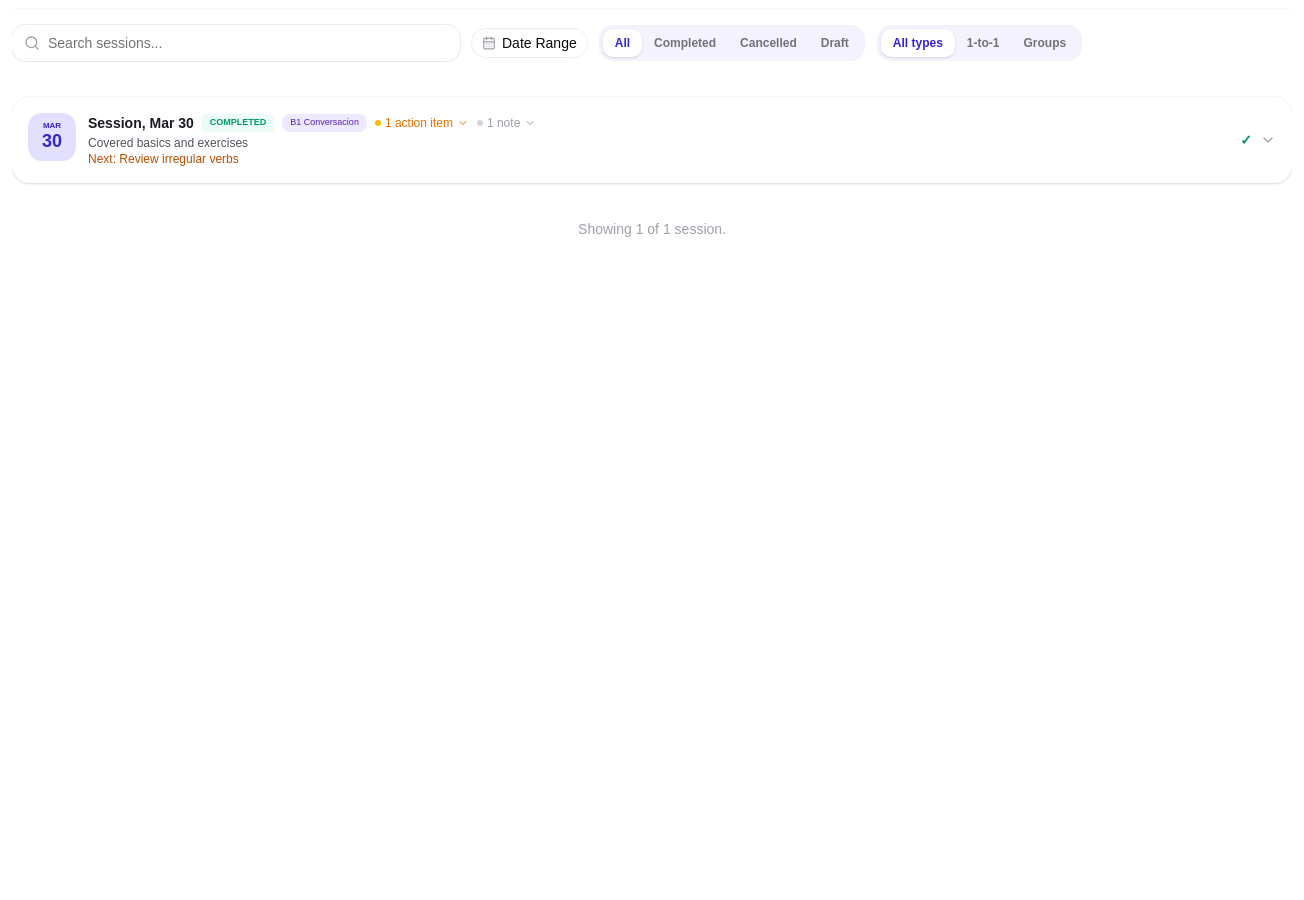
Test: SessionHistoryTab › shows "View in group" link and no delete button for group session
Click the button with test id "session-entry-toggle".
click(52, 137)  # box top-left (12, 97), bottom-right (1292, 183)
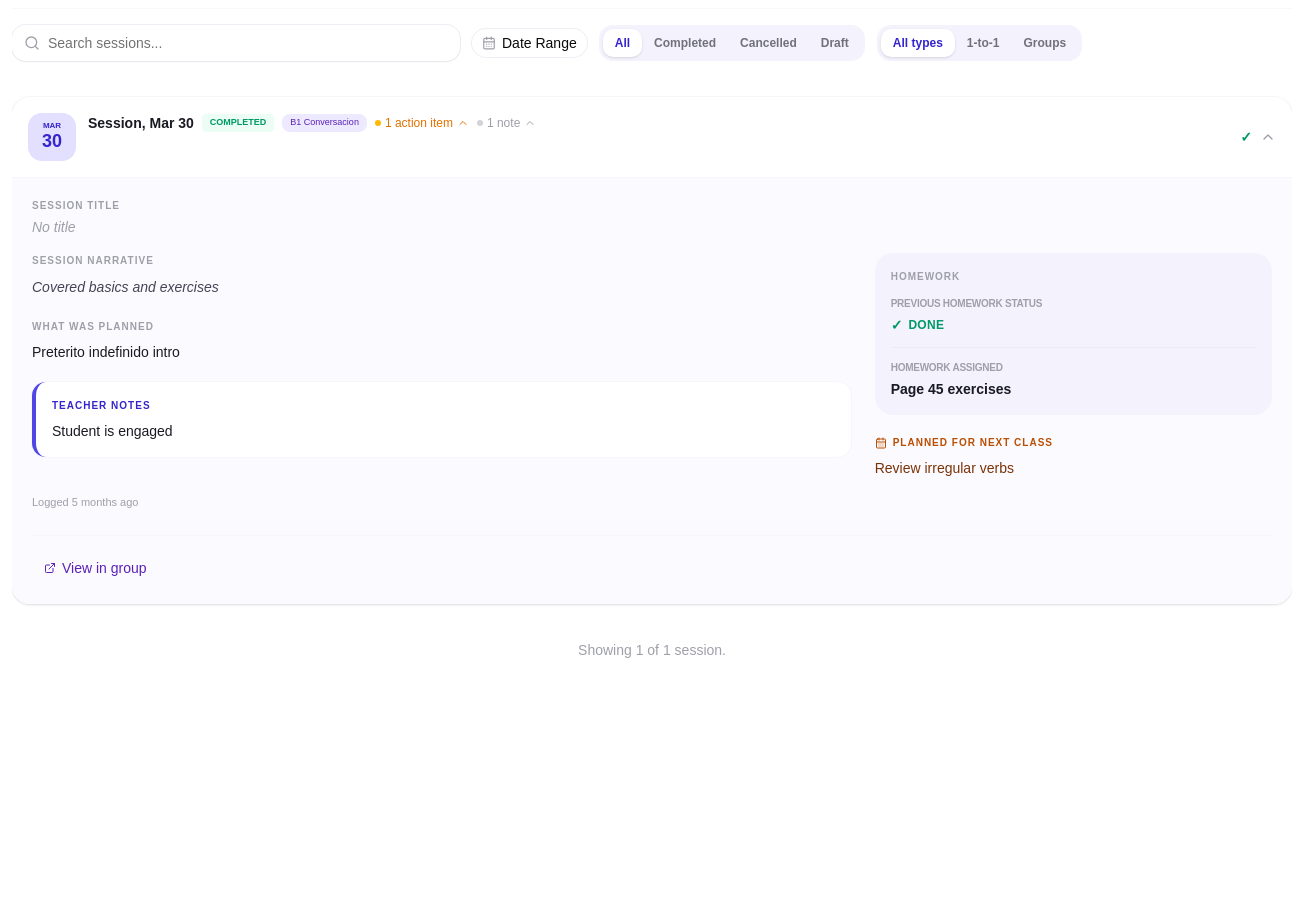
Result: the link with test id "view-in-group-link" is shown at top-left (44, 560), bottom-right (147, 576)
